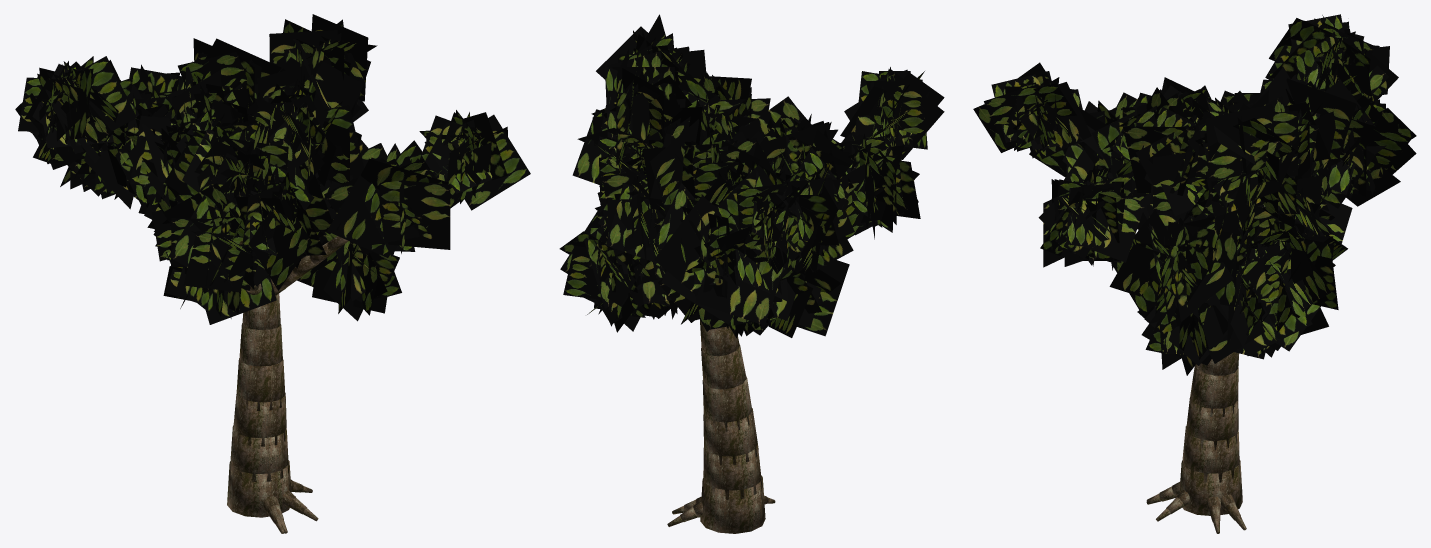
Rendered from giant_1.glb.
3 views of the same model, side by side, from view 1: azimuth 30°, elevation 25°; view 2: azimuth 150°, elevation 25°; view 3: azimuth 270°, elevation 25° (orthographic). The views are drawn at different scales.
Parts seen in each view (by area): view 1: giant; view 2: giant; view 3: giant.
Part boxes in pixels (<box>): giant: <box>15,14,530,533</box>; giant: <box>559,14,944,533</box>; giant: <box>973,14,1416,533</box>.
Bounding box in the file's own units: 16.35 × 19.14 × 17.28.
2 materials, 2 textured.
